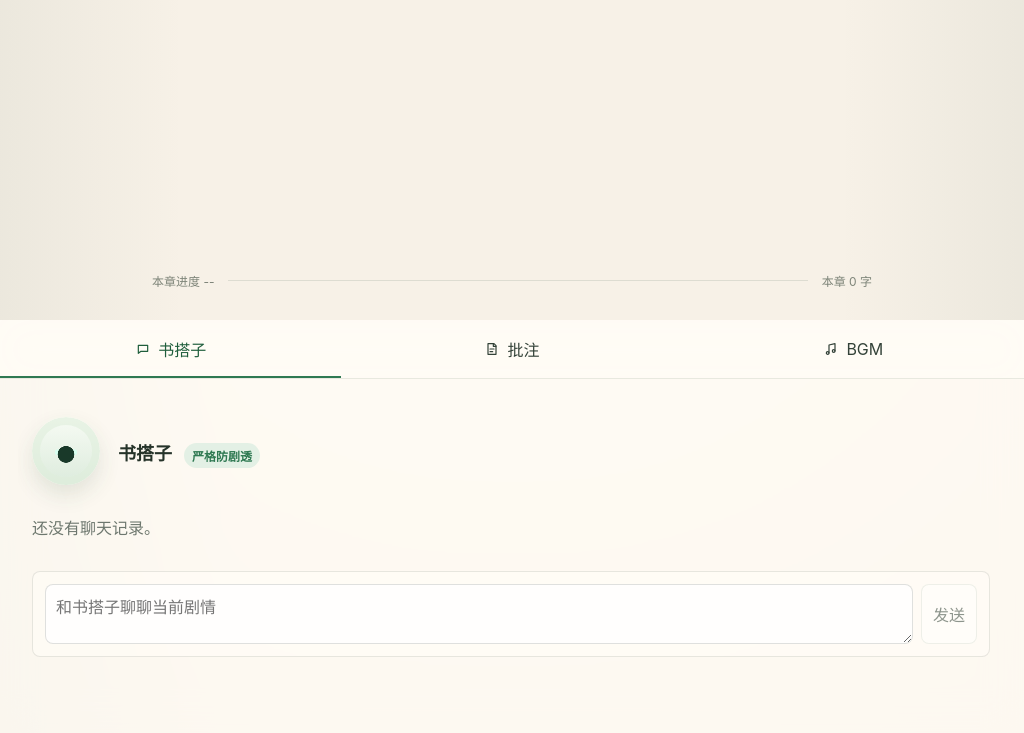
it: App › uses the BGM tab for recommendations and the song library instead of duplicating the player
(page scrolled)
What coordinates should you click on to do the following:
click the button "BGM"
I would click on:
 (853, 349)
Its box is [683, 320, 1023, 378].
(page scrolled)
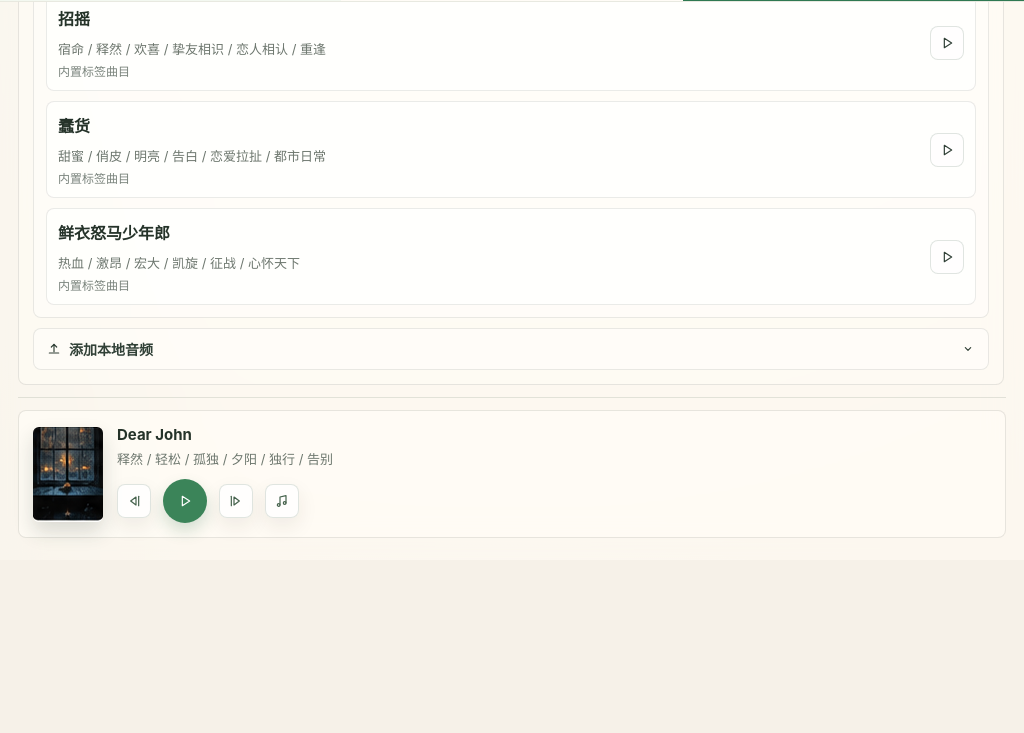
Expected: the text "添加本地音频" is shown, [46, 339, 153, 359]
